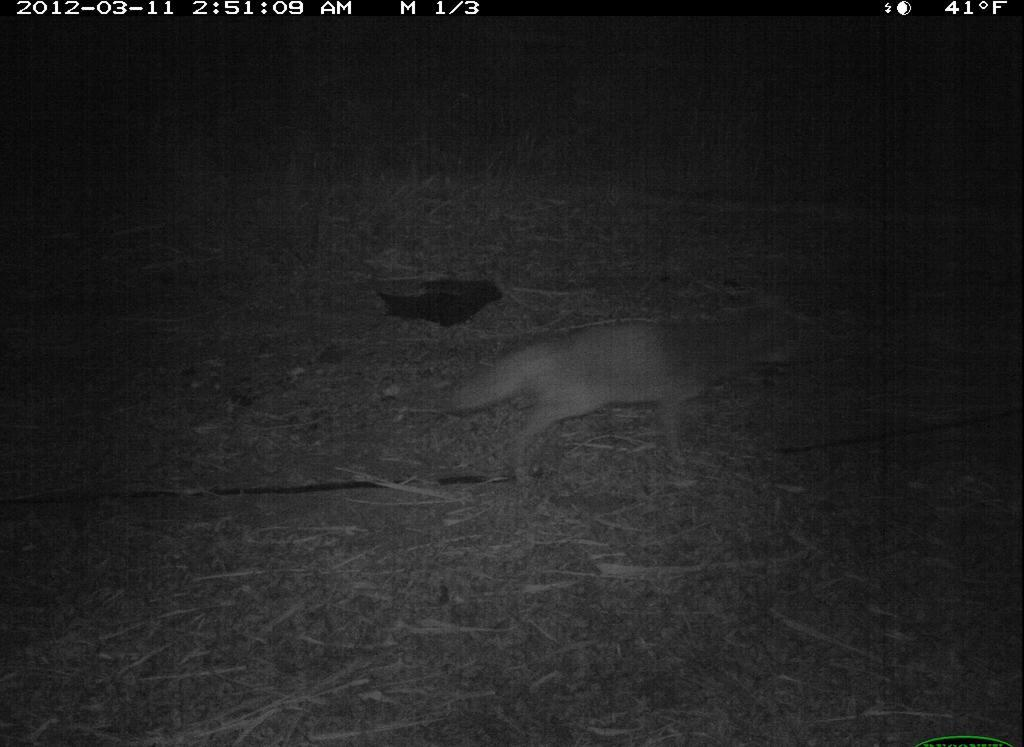coyote: (459, 289, 820, 495)
